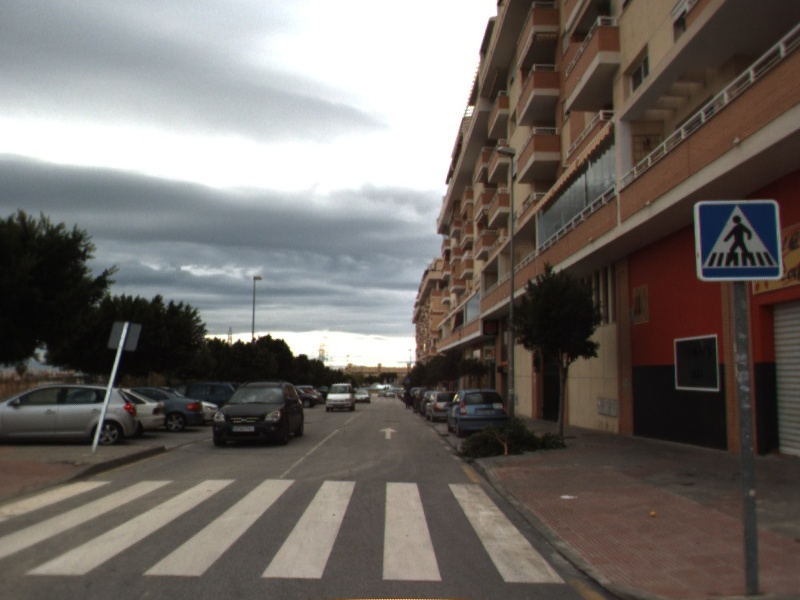STRAIGHT: (377, 425, 399, 441)
